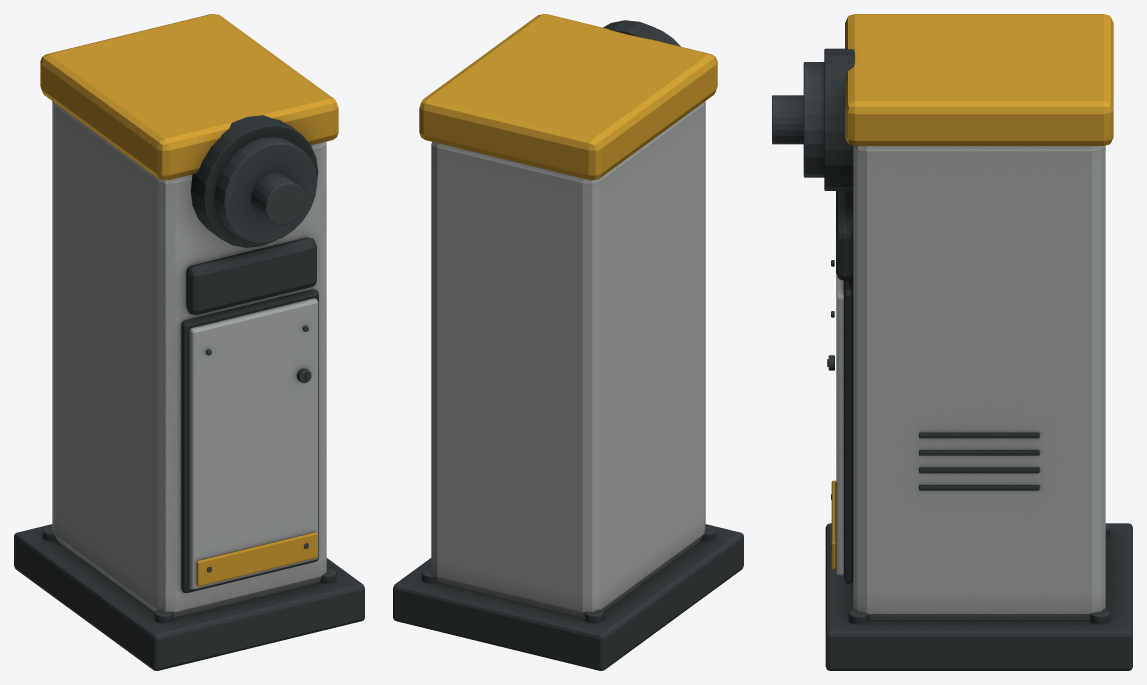
Rendered from SM_BarrierHousing.fbx.
3 views of the same model, side by side, from view 1: azimuth 30°, elevation 25°; view 2: azimuth 150°, elevation 25°; view 3: azimuth 270°, elevation 25° (orthographic). The views are drawn at different scales.
Parts seen in each view (by area): view 1: SM_BarrierHousing; view 2: SM_BarrierHousing; view 3: SM_BarrierHousing.
Part boxes in pixels (x1=…): SM_BarrierHousing: x1=14, y1=14, x2=364, y2=670; SM_BarrierHousing: x1=393, y1=14, x2=743, y2=670; SM_BarrierHousing: x1=772, y1=14, x2=1132, y2=670.
Size of the model in its own units: 48 by 65.8 by 113.
1 material, 1 textured.
